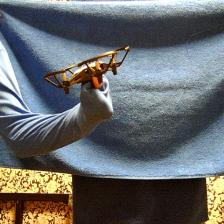drone: (46, 47, 130, 92)
